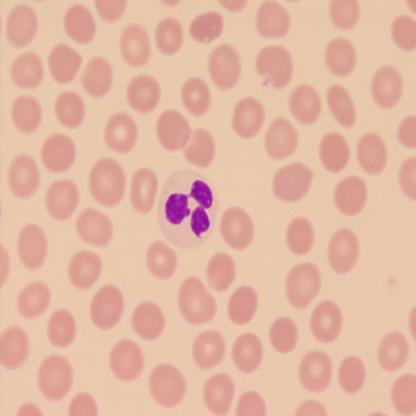Segmented neutrophil: (153, 167, 223, 251)
